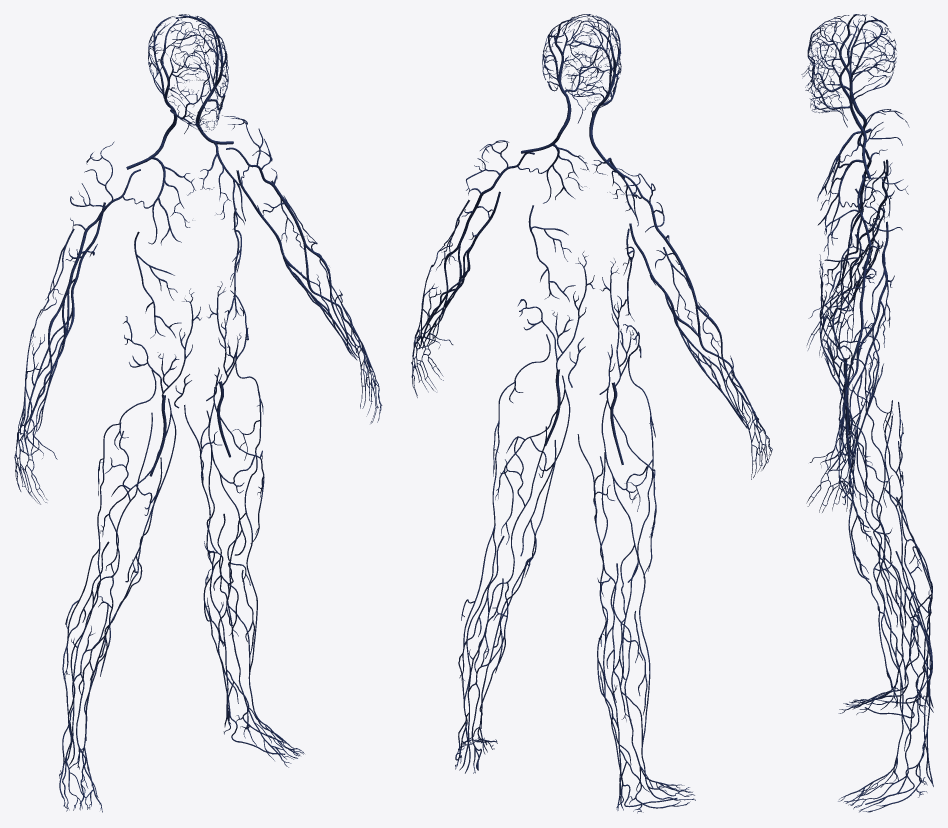
Rendered from vessels-lite.glb.
The picture shows the model from 3 angles, left to right: view 1: azimuth 30°, elevation 25°; view 2: azimuth 150°, elevation 25°; view 3: azimuth 270°, elevation 25°; orthographic projection. The views are drawn at different scales.
Parts seen in each view (by area): view 1: Veins_r, Veins_l; view 2: Veins_r, Veins_l; view 3: Veins_l, Veins_r.
Boxes of the visible parts, bbox=[...] form: Veins_r: bbox=[14, 16, 213, 812]; Veins_l: bbox=[170, 14, 382, 767]; Veins_r: bbox=[564, 15, 772, 813]; Veins_l: bbox=[411, 14, 606, 773]; Veins_l: bbox=[802, 19, 933, 812]; Veins_r: bbox=[801, 14, 933, 718].
Size of the model in its own units: 0.8088 by 1.68 by 0.2727.
